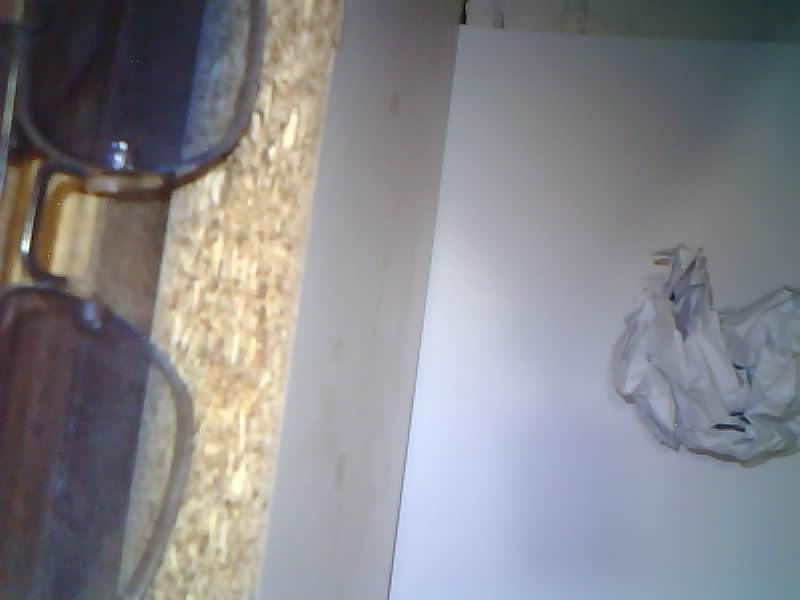biodegradable: (613, 249, 799, 466)
